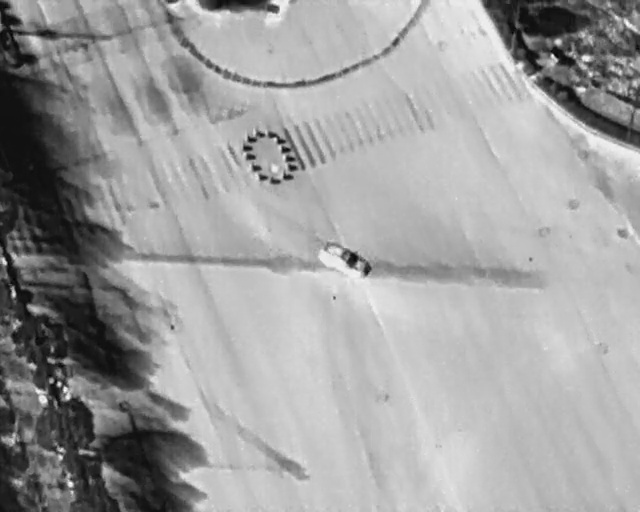Car: (317, 236, 377, 284)
